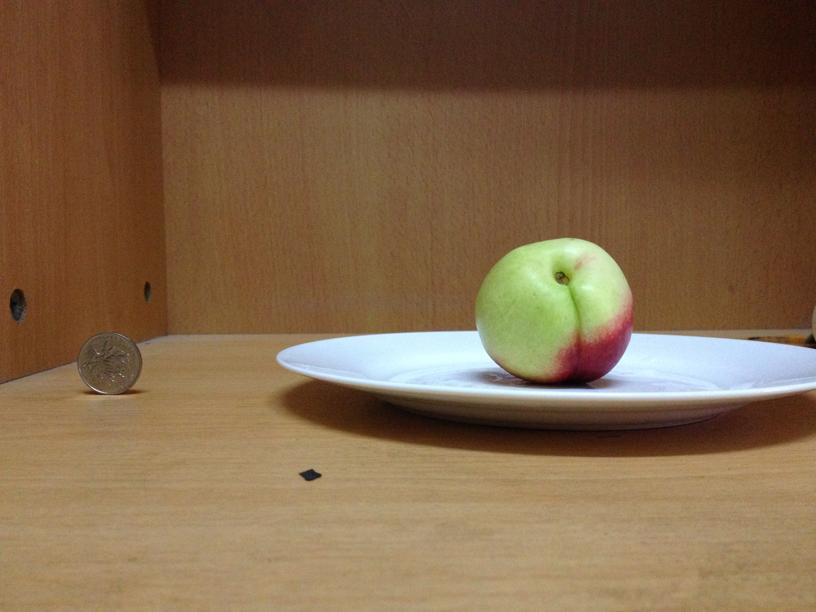coin: (73, 328, 142, 395)
peach: (469, 238, 636, 386)
